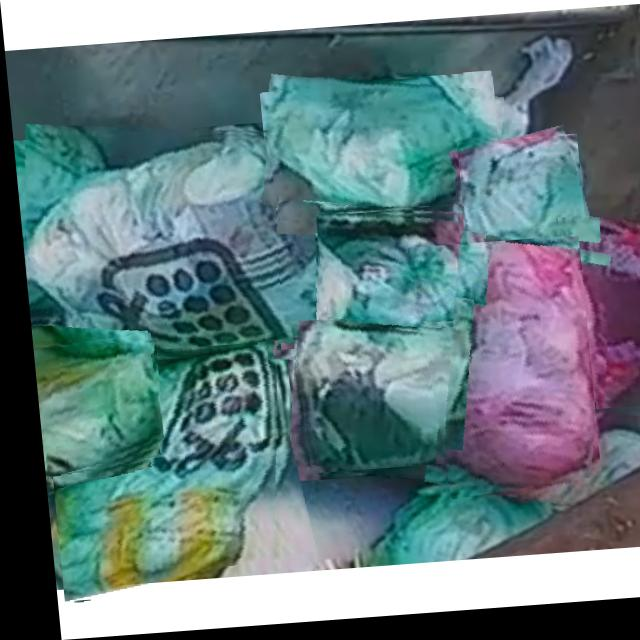general_trashbag: (21, 137, 348, 360), (45, 347, 269, 602), (264, 82, 495, 217), (289, 326, 461, 475), (312, 219, 459, 337), (27, 350, 154, 478), (458, 145, 570, 266)
other_trashbag: (431, 247, 584, 497), (563, 227, 640, 418)
